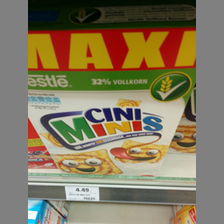cereal: (27, 28, 196, 178)
